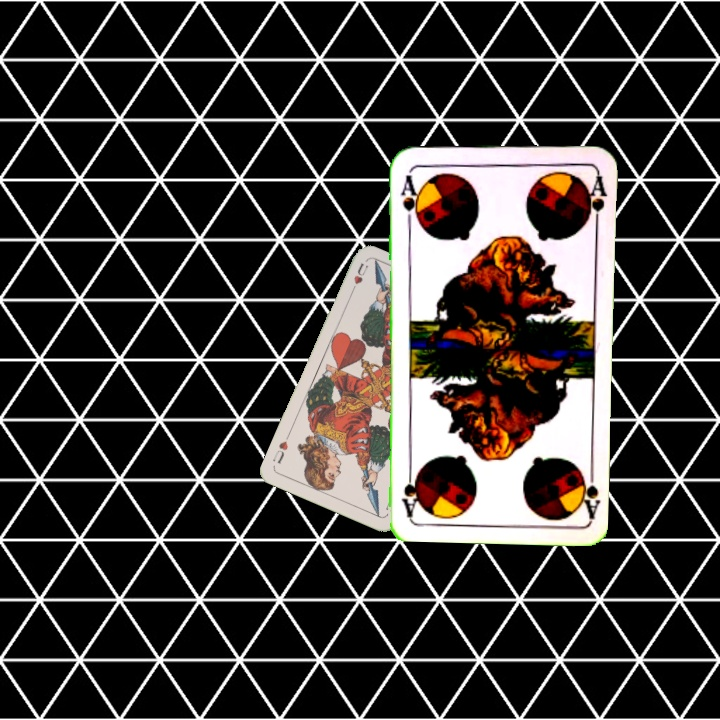HU: (346, 259, 371, 297)
SA: (573, 461, 601, 520), (397, 166, 423, 225)
